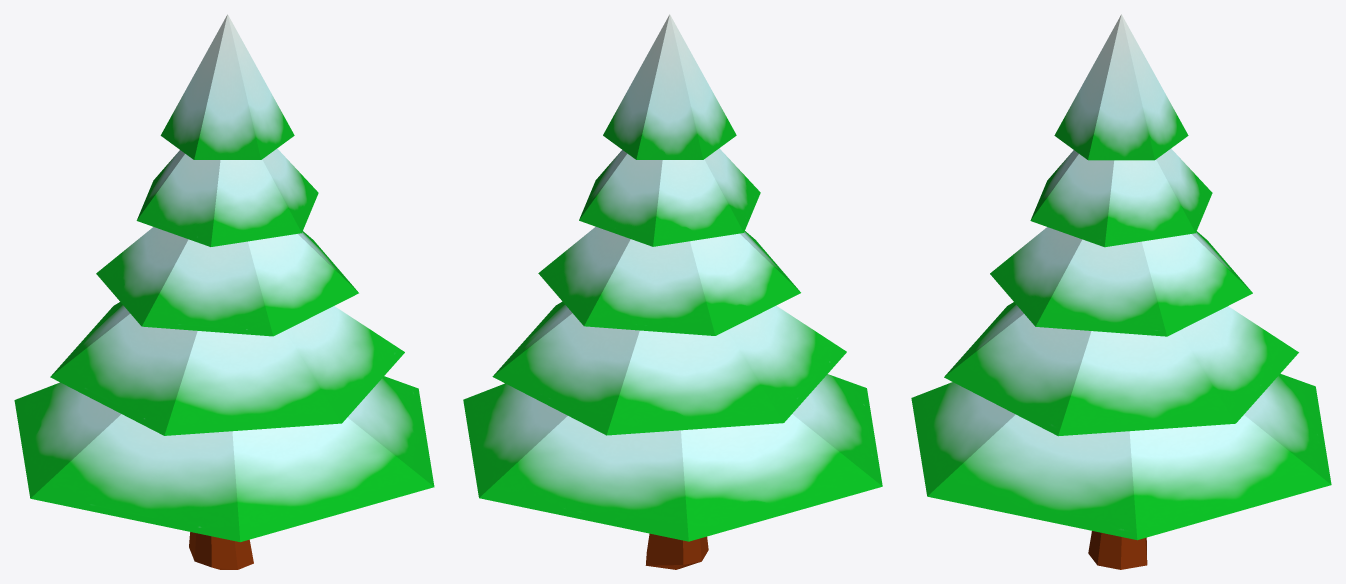
Rendered from Sapin.fbx.
The picture shows the model from 3 angles, left to right: view 1: azimuth 30°, elevation 25°; view 2: azimuth 150°, elevation 25°; view 3: azimuth 270°, elevation 25°; orthographic projection.
Parts seen in each view (by area): view 1: Cone.005; view 2: Cone.005; view 3: Cone.005.
Part boxes in pixels (x1,y1,x2,y2): Cone.005: (14, 14, 434, 569); Cone.005: (463, 14, 882, 569); Cone.005: (911, 14, 1331, 569).
Size of the model in its own units: 2454 by 3218 by 2209.
1 material, 1 textured.
